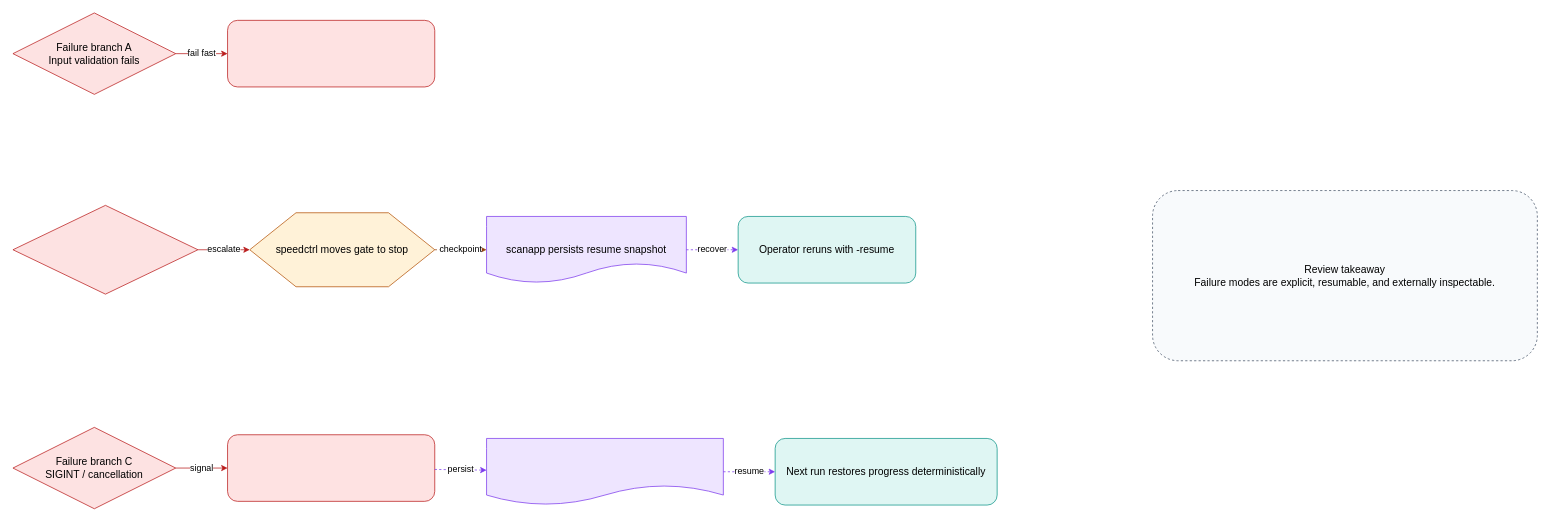
This 1550x522 diagram has some shape labels left out. Each missing label, with the centre of its shape:
Failure branch B Pressure API keeps failing or pressure escalates: (105,249)
Graceful stop boundary drain, checkpoint, exit: (331,467)
resume_state.json or explicit -resume path: (604,471)
Stop before runtime dispatch Return non-zero exit: (331,53)
